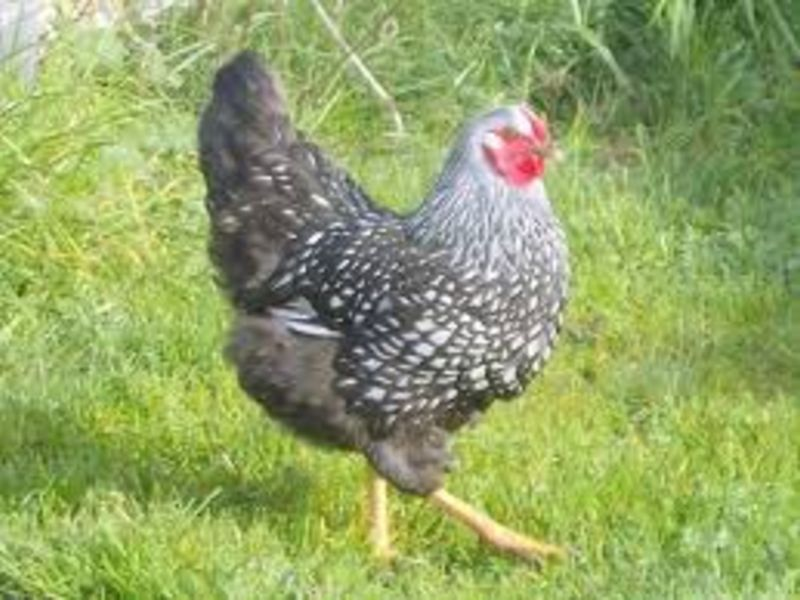hen: (192, 44, 578, 572)
